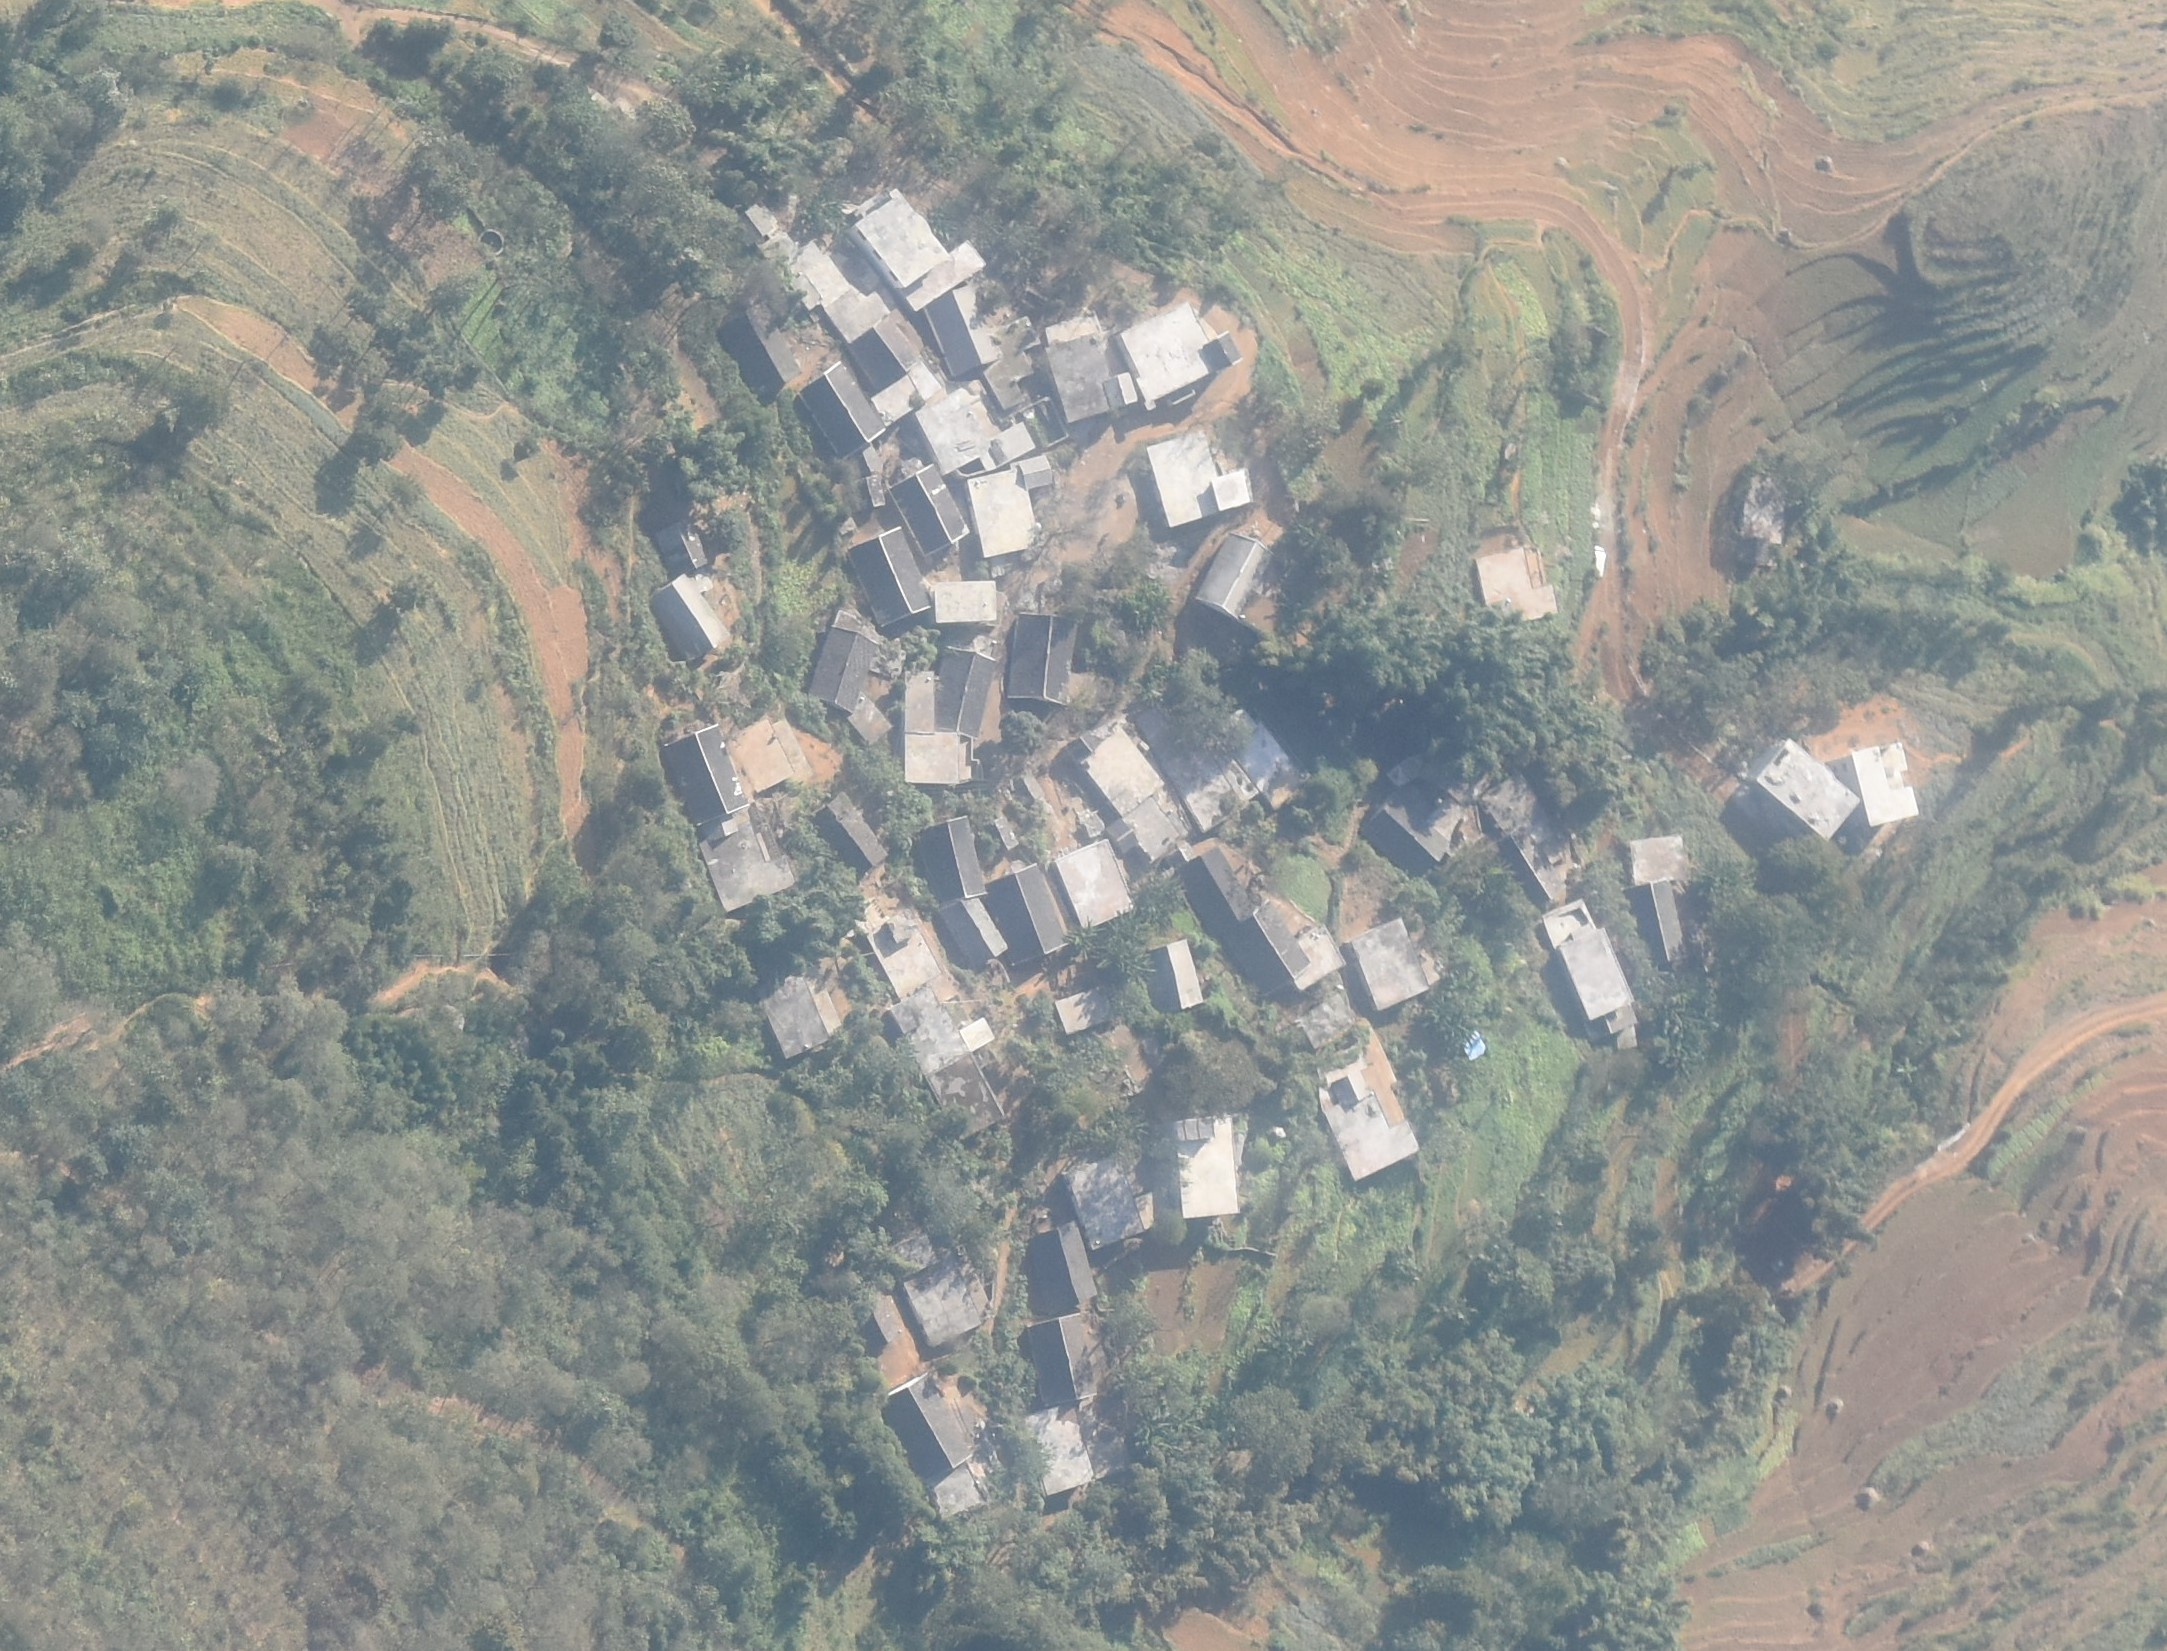building: (895, 987, 1004, 1132), (1136, 706, 1260, 832), (856, 191, 986, 310), (1543, 898, 1637, 1047), (1486, 768, 1586, 898), (1120, 300, 1243, 406), (903, 649, 997, 780), (778, 238, 889, 340), (888, 1233, 981, 1348), (1326, 1072, 1422, 1183), (697, 806, 796, 912), (1758, 739, 1858, 841), (931, 279, 1038, 375), (1148, 432, 1253, 527), (917, 388, 1033, 475), (884, 1370, 971, 1485), (749, 949, 834, 1060), (1044, 328, 1139, 421), (846, 524, 933, 624), (981, 860, 1064, 963), (969, 456, 1052, 557), (662, 725, 747, 822), (797, 362, 888, 453), (1066, 1157, 1155, 1249), (716, 305, 799, 392), (1352, 917, 1430, 1009), (893, 463, 971, 555), (1056, 839, 1134, 930), (1194, 532, 1272, 623), (1026, 1313, 1103, 1405), (1083, 732, 1167, 813), (648, 576, 730, 659), (1025, 1400, 1094, 1497), (1475, 548, 1564, 623), (1238, 898, 1312, 987), (810, 791, 888, 874), (1175, 1117, 1240, 1217), (1009, 610, 1078, 702), (1226, 706, 1293, 798), (808, 626, 879, 713), (870, 914, 943, 997), (1363, 796, 1451, 862), (1030, 1219, 1097, 1304), (921, 813, 986, 898), (725, 716, 794, 794), (1857, 741, 1919, 825), (1624, 878, 1685, 963), (933, 897, 1011, 963), (1182, 850, 1250, 924), (870, 362, 943, 425), (851, 319, 919, 385), (1746, 463, 1793, 546), (1149, 940, 1205, 1009), (1288, 921, 1345, 983), (1123, 798, 1181, 860), (1628, 832, 1689, 884), (1298, 990, 1356, 1042), (934, 579, 997, 624), (846, 690, 895, 744), (659, 519, 707, 571), (934, 1465, 981, 1517), (837, 472, 888, 512), (745, 203, 778, 236)
